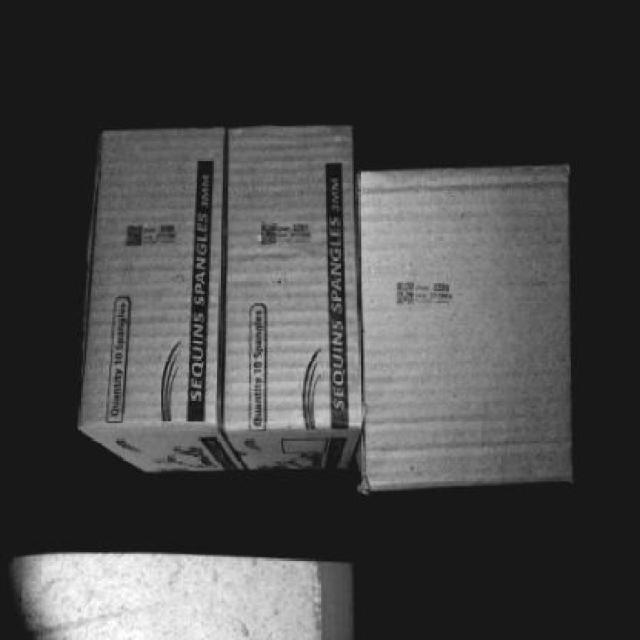cardboxes: (359, 159, 567, 475), (82, 129, 227, 423), (229, 129, 365, 442)
